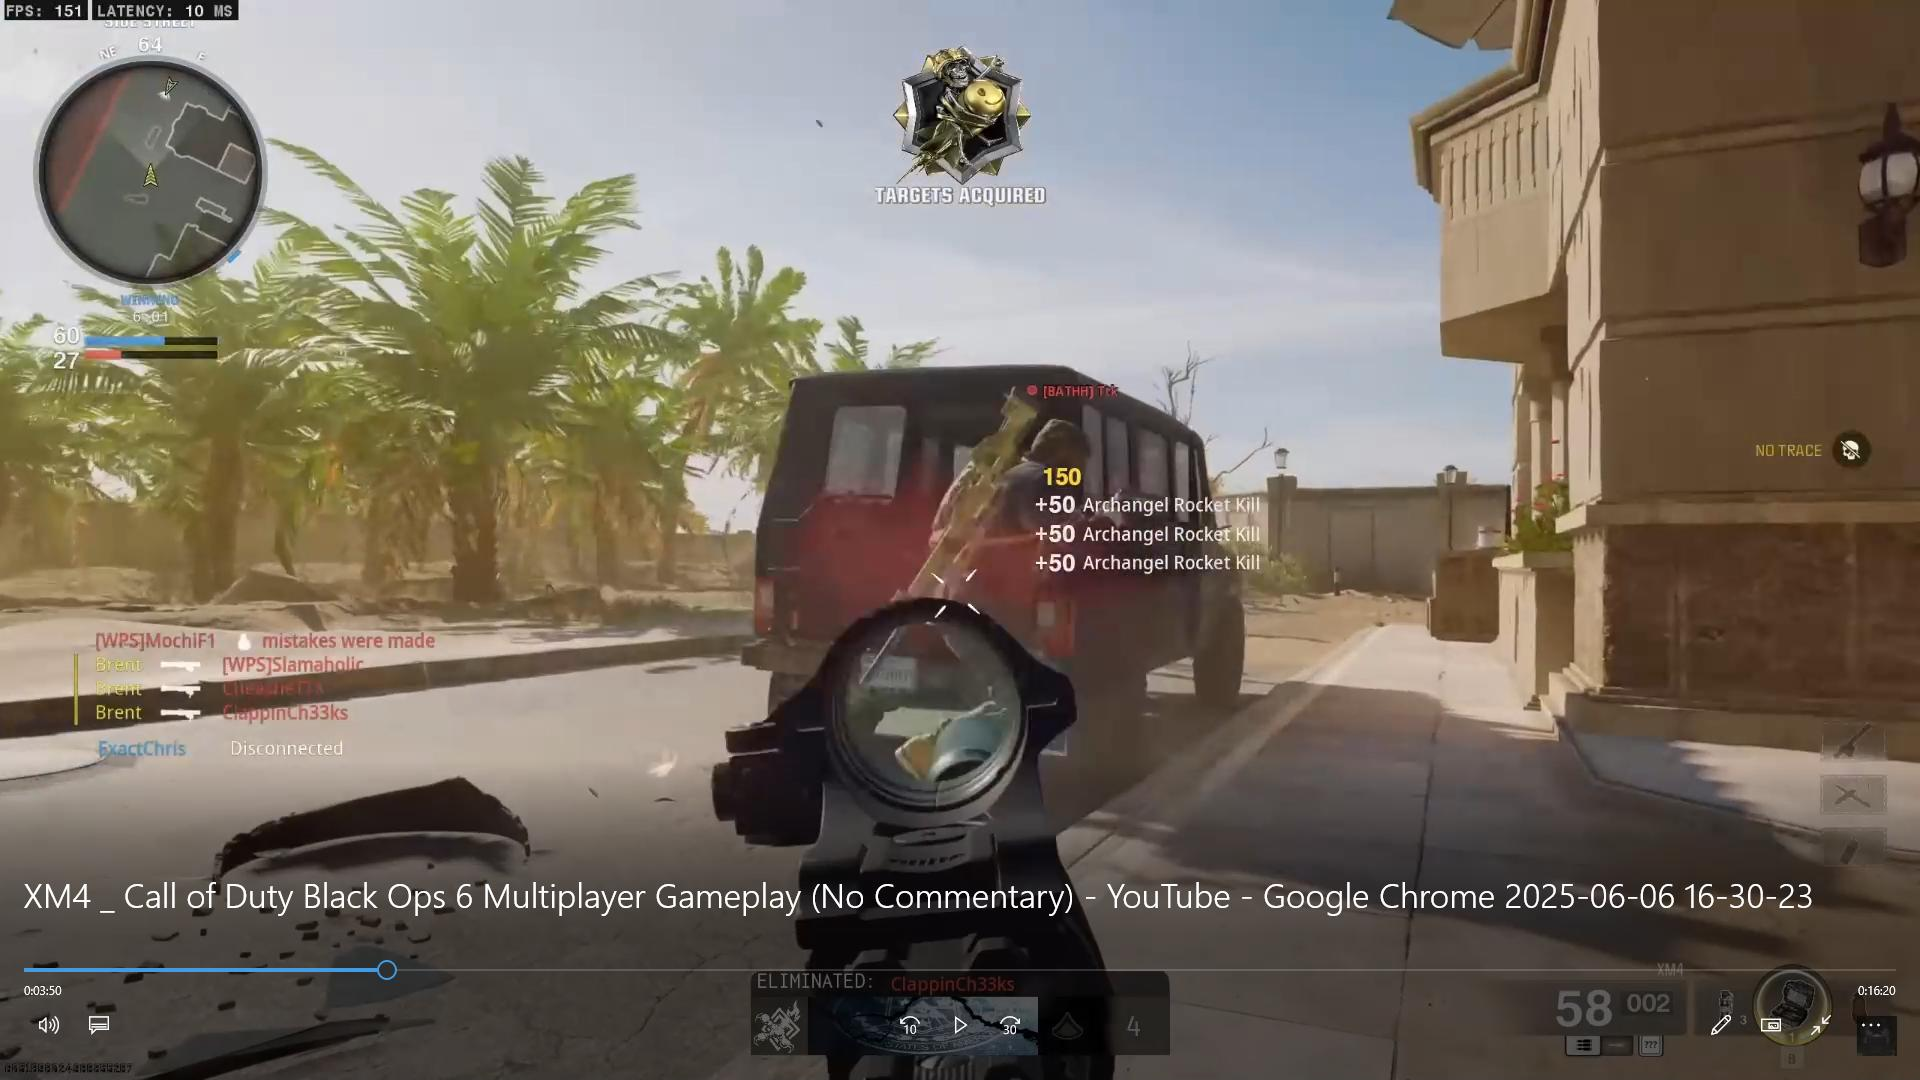Enemy: (928, 357, 1118, 624)
